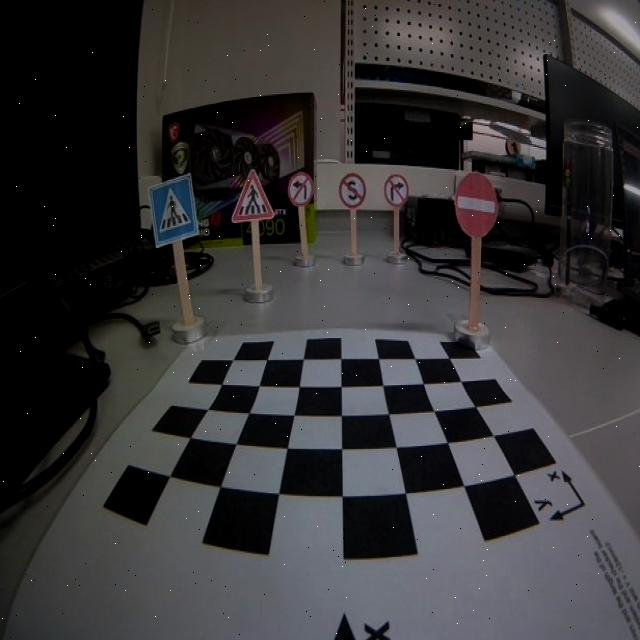Dilarang Belok Kanan: (384, 174, 408, 206)
Dilarang Belok Kiri: (286, 172, 312, 206)
Dilarang Masuk: (453, 172, 499, 237)
Rambu Berhenti: (338, 172, 366, 209)
Rambu Penyebrangan: (146, 173, 200, 248), (231, 170, 275, 223)
